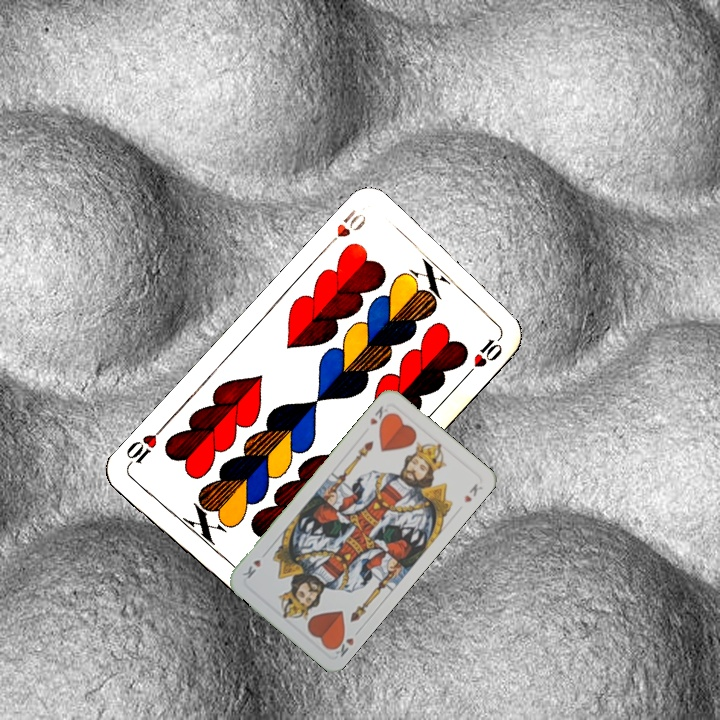H10: (320, 205, 369, 253)
HK: (327, 625, 363, 660), (366, 402, 393, 430)
